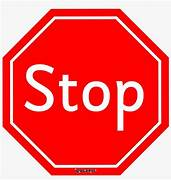stop: (1, 9, 168, 174)
